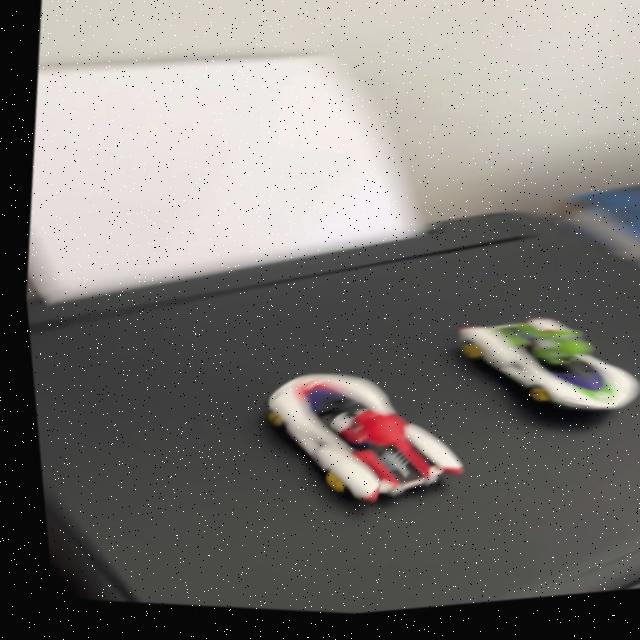mario: (232, 353, 493, 539)
yoshi: (425, 297, 640, 446)
